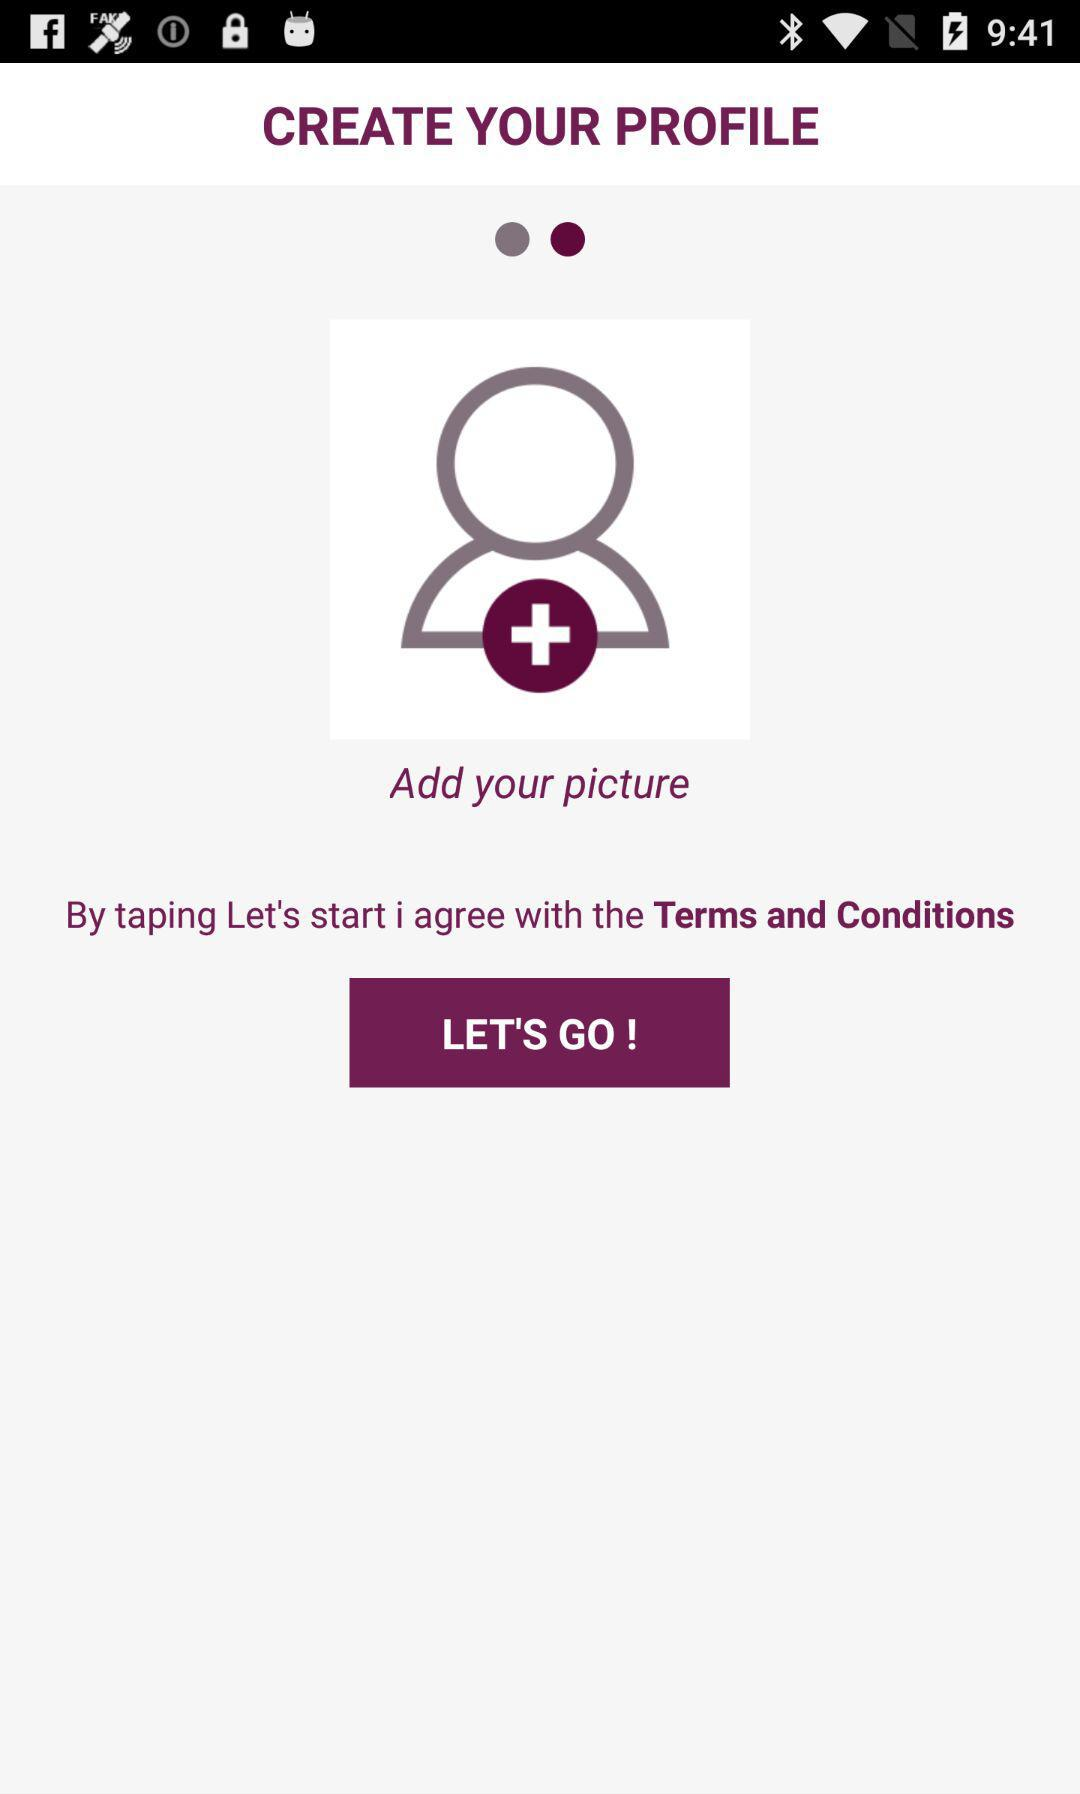Image: (328, 320, 751, 738)
PageIndicator: (495, 220, 587, 259)
Text: (68, 900, 1016, 937), (263, 106, 821, 147), (389, 765, 691, 809)
TextButton: (348, 978, 732, 1089)
UpperTaskBar: (1, 1, 1080, 64)
